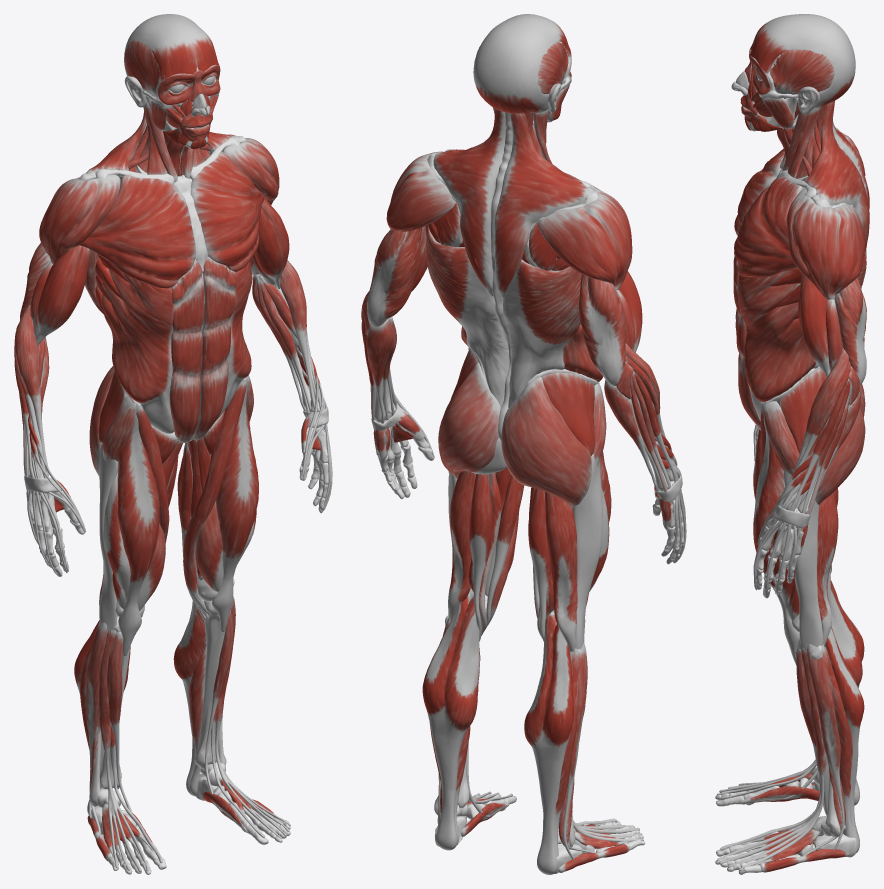
The model's file is body.glb.
3 renders of one model, left to right at view 1: azimuth 30°, elevation 25°; view 2: azimuth 150°, elevation 25°; view 3: azimuth 270°, elevation 25°, orthographic. The views are drawn at different scales.
Parts seen in each view (by area): view 1: Object_23, Object_17, Object_29, Object_25, Object_31, Object_15, Object_33, Object_5, Object_7, Object_11, Object_27, Object_3 (+3 smaller); view 2: Object_13, Object_7, Object_3, Object_9, Object_5, Object_33, Object_15, Object_31, Object_29, Object_11, Object_25, Object_27 (+4 smaller); view 3: Object_23, Object_25, Object_15, Object_29, Object_31, Object_5, Object_7, Object_3, Object_33, Object_13, Object_11, Object_17 (+3 smaller).
Part boxes in pixels (x1,y1,x2,y2): Object_23: (79,152,264,442); Object_17: (103,377,258,656); Object_29: (26,50,328,874); Object_25: (85,595,290,872); Object_31: (14,260,332,576); Object_15: (124,14,220,149); Object_33: (20,199,289,345); Object_5: (39,138,279,263); Object_7: (74,572,206,814); Object_11: (24,76,328,631); Object_27: (151,410,224,615); Object_3: (89,366,253,476); Object_13: (425,109,589,407); Object_7: (422,595,578,874); Object_3: (438,349,606,507); Object_9: (448,471,577,651); Object_5: (386,151,632,289); Object_33: (367,226,642,385); Object_15: (473,14,571,121); Object_31: (361,291,686,562); Object_29: (371,41,684,873); Object_11: (371,83,682,649); Object_25: (437,617,643,872); Object_27: (485,467,554,629); Object_23: (733,149,815,430); Object_25: (717,644,849,872); Object_15: (740,14,855,131); Object_29: (715,49,857,874); Object_31: (753,347,861,597); Object_5: (786,127,865,299); Object_7: (824,579,864,852); Object_3: (763,368,865,504); Object_33: (798,250,866,384); Object_13: (770,101,869,368); Object_11: (731,71,847,650); Object_17: (753,402,799,665).
Size of the model in its own units: 26.15 by 68.16 by 11.69.
16 materials, 14 textured.
